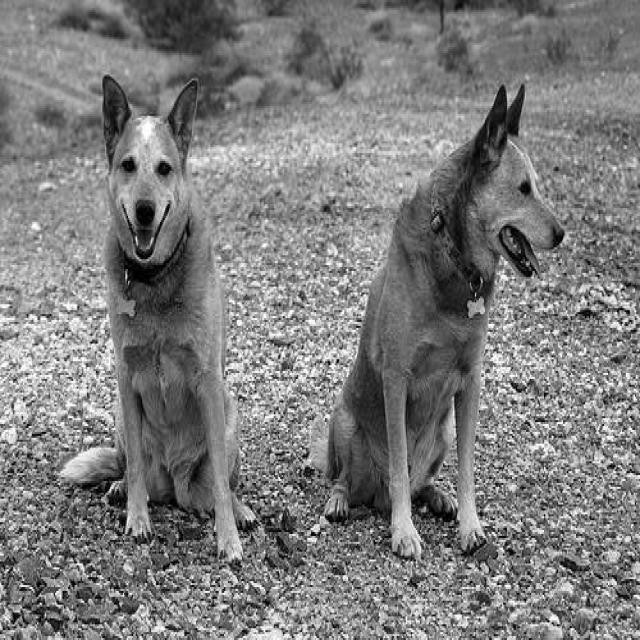sitting: (307, 78, 569, 572), (57, 66, 266, 572)
